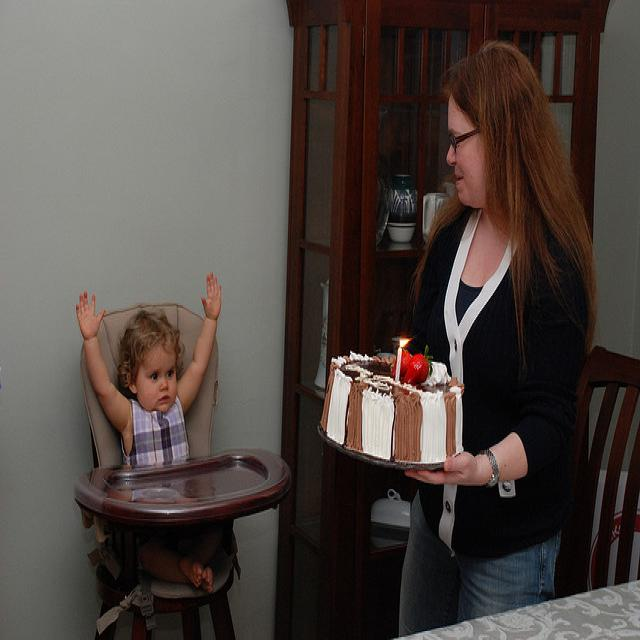chair: (70, 273, 301, 640), (561, 344, 640, 601)
dining table: (422, 574, 640, 634)
